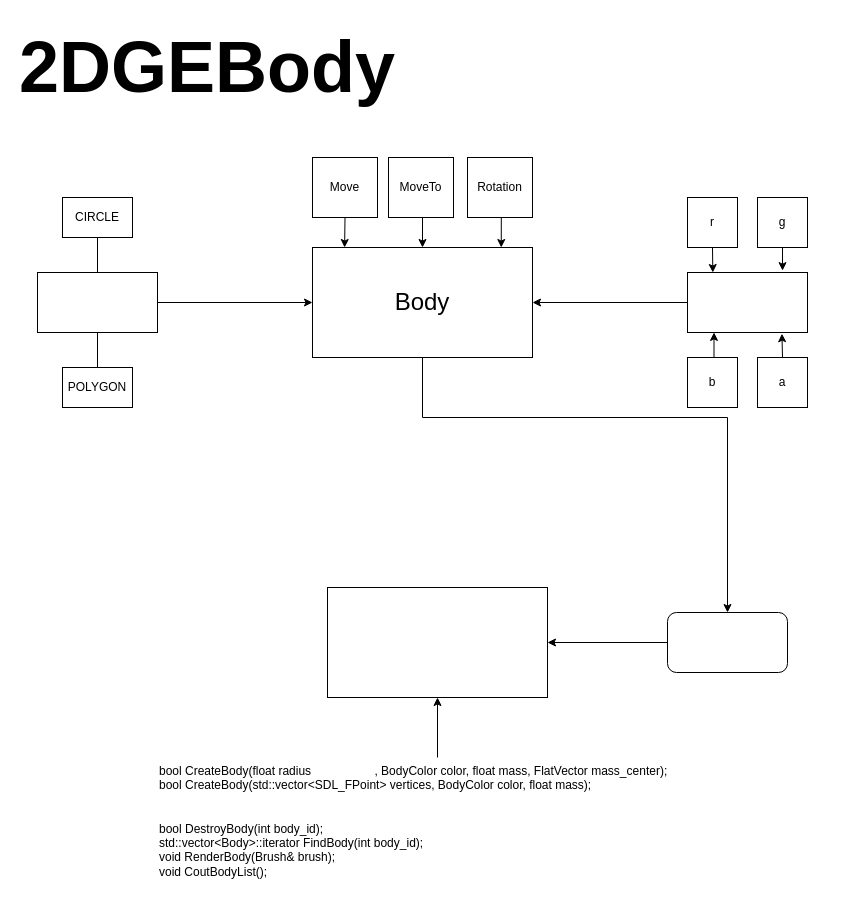
Image size: 844x914. Some labels were removed from this diagram. Here are the shapes that lost their labels. From the top down, the box of each, then its label:
(36, 272, 158, 332): Shape
(686, 272, 808, 332): BodyColor
(326, 586, 548, 698): BodyManager
(666, 612, 788, 672): body_list_
